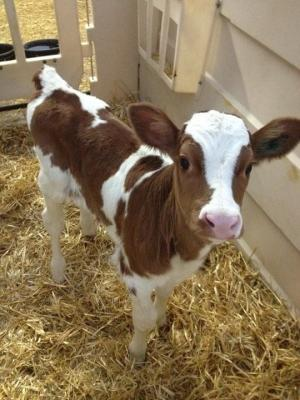muzzles: (195, 205, 245, 250)
